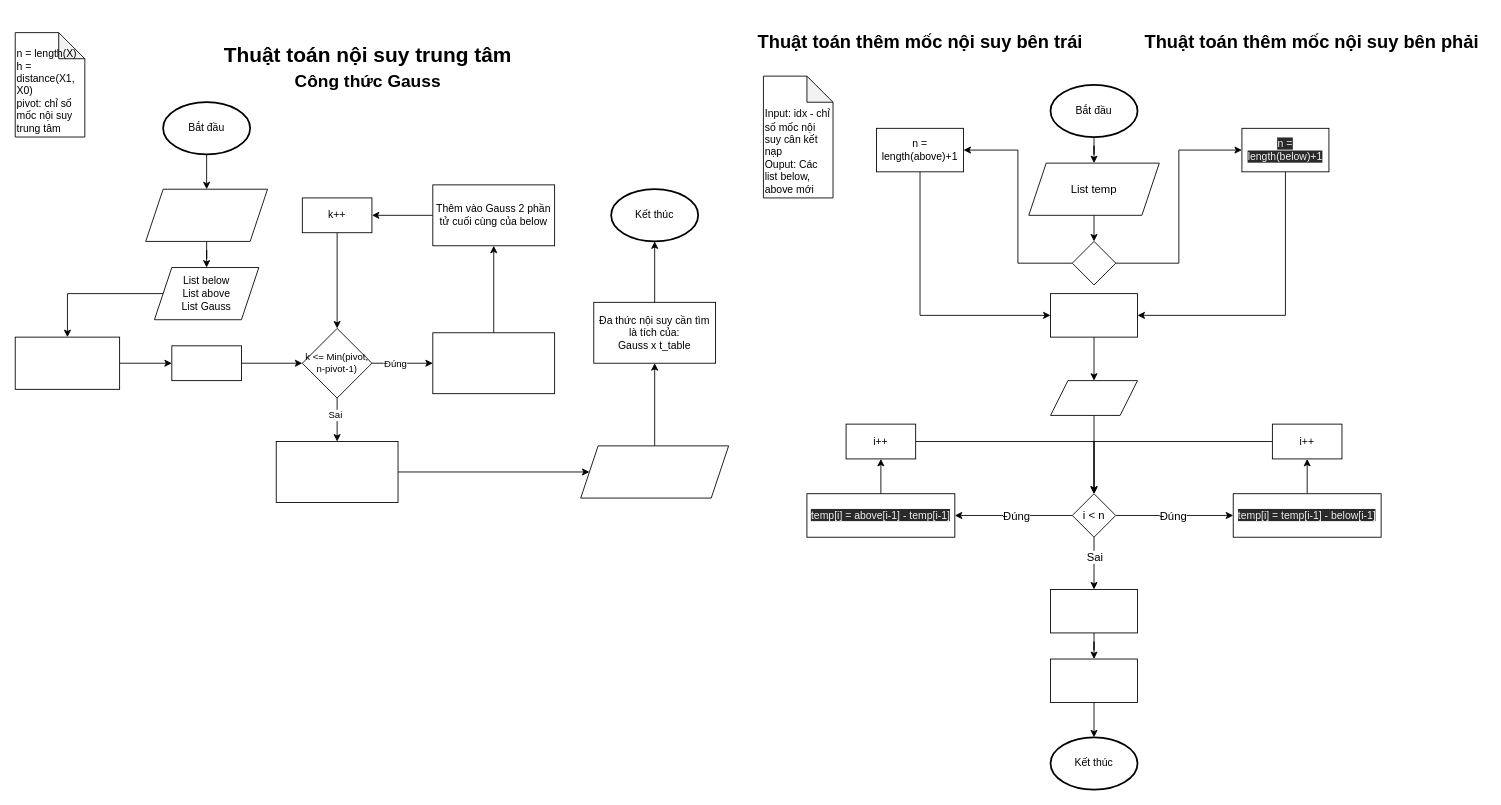
Some shapes in this 1501 by 805 pixel diagram are drawn without their labels. The centre of each missing label's shape, as x and y in pixels:
"below = Add_below(); after = Add_after(); (Thêm mốc nội suy bên phải/ trái)" goes at (493,363).
"i = 1" goes at (1094,397).
"k = 1" goes at (206,363).
"List X: mốc nội suy List Y: gtri nội suy int k: biến duyệt" goes at (206,214).
"return temp" goes at (1094,680).
"temp[0] = Y[idx]" goes at (1094,315).
"Thêm temp[last] vào above, below" goes at (1094,611).
"Thêm Y[pivot] vào (below, above, Gauss)" goes at (67,362).
"Với mỗi phần tử trong Gauss, chia nó cho giai thừa của chỉ số của nó" goes at (336,471).
"Xây dựng ma trận hệ số t: t_table = Construct_table() (cỡ 2k-1 x 2k-1)" goes at (654,471).
